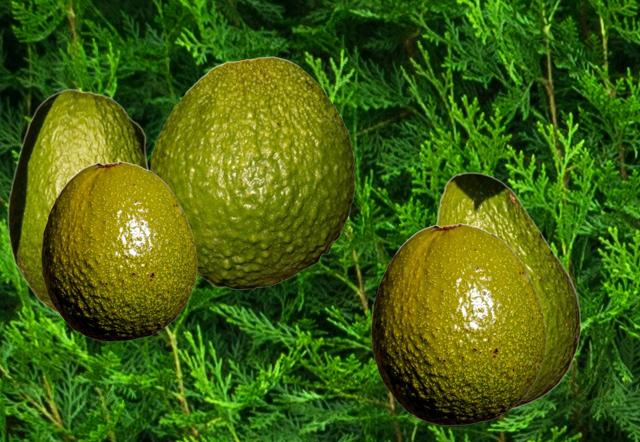avocado: (149, 56, 354, 288), (371, 223, 545, 424), (433, 172, 580, 408), (7, 88, 149, 314), (41, 161, 196, 340)
